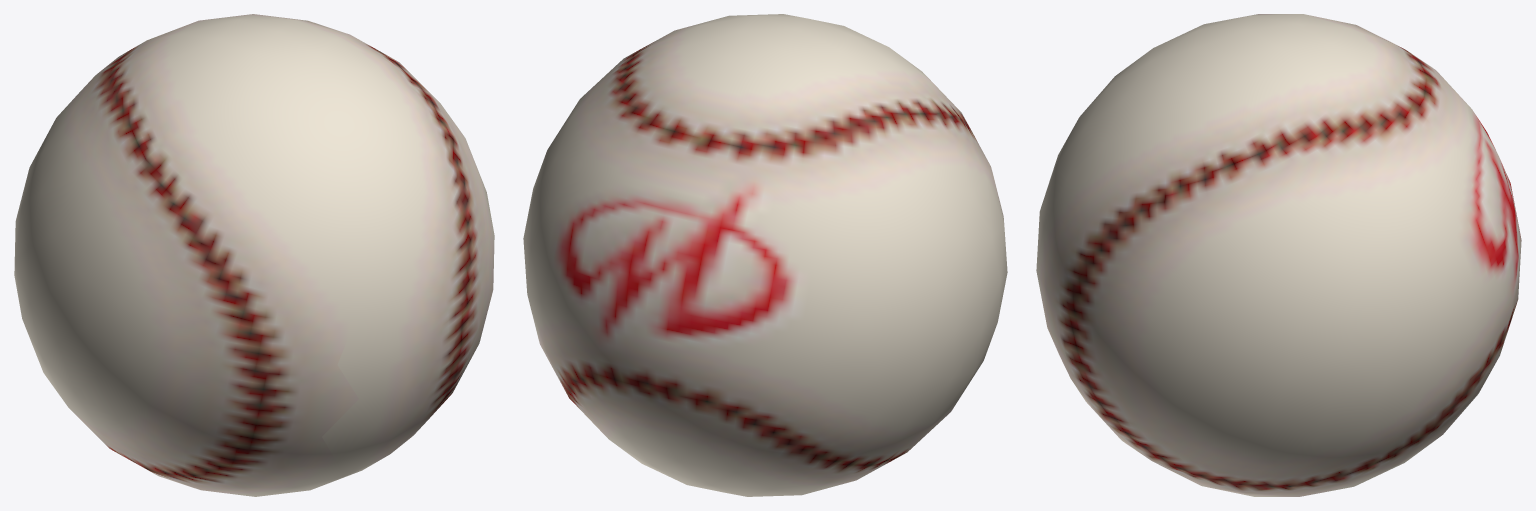
File: haticon.ico.obj
The picture shows the model from 3 angles, left to right: view 1: azimuth 30°, elevation 25°; view 2: azimuth 150°, elevation 25°; view 3: azimuth 270°, elevation 25°; orthographic projection.
Bounding box in the file's own units: 3.48 × 3.48 × 3.49.
Materials: 1 (1 with a texture image).
